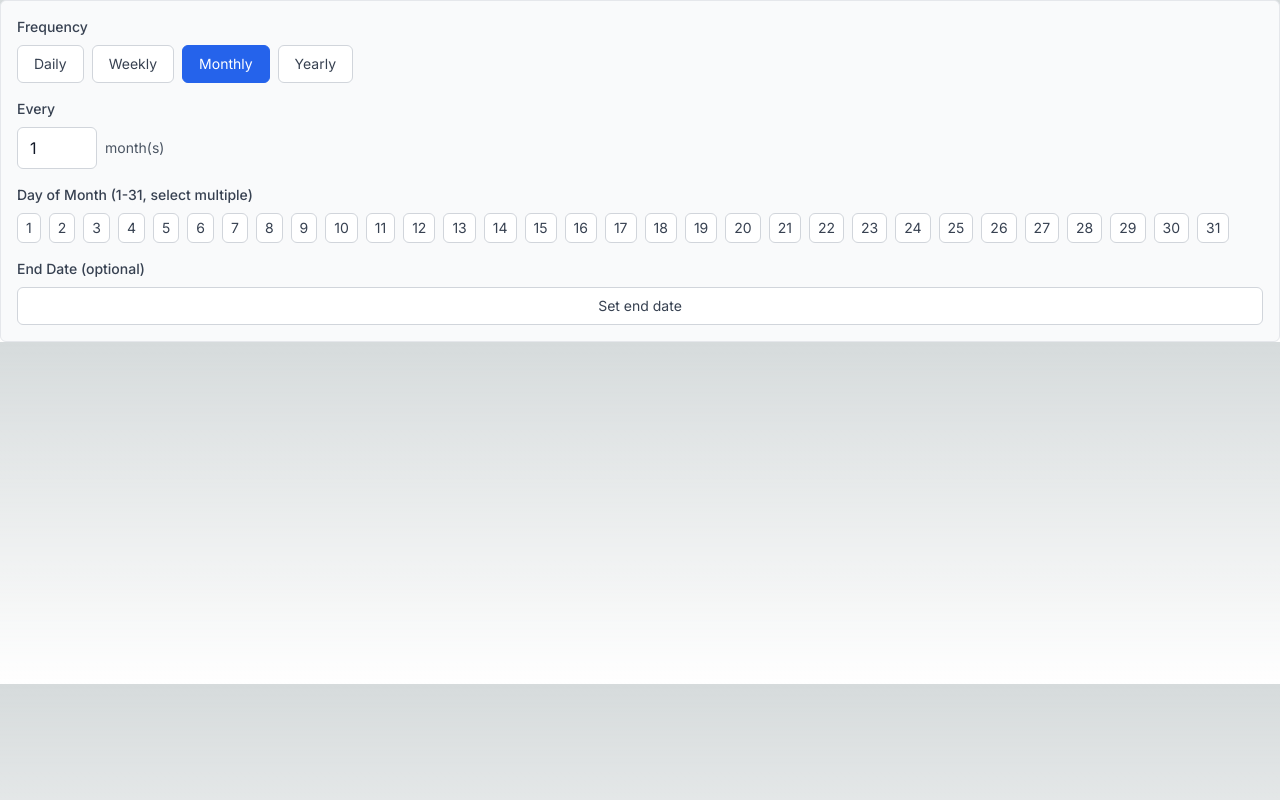
Test: RecurrenceControl Component › should show day of week buttons for weekly frequency
Click the button "weekly". click: (133, 64)
box: x1=92 y1=45 x2=174 y2=83
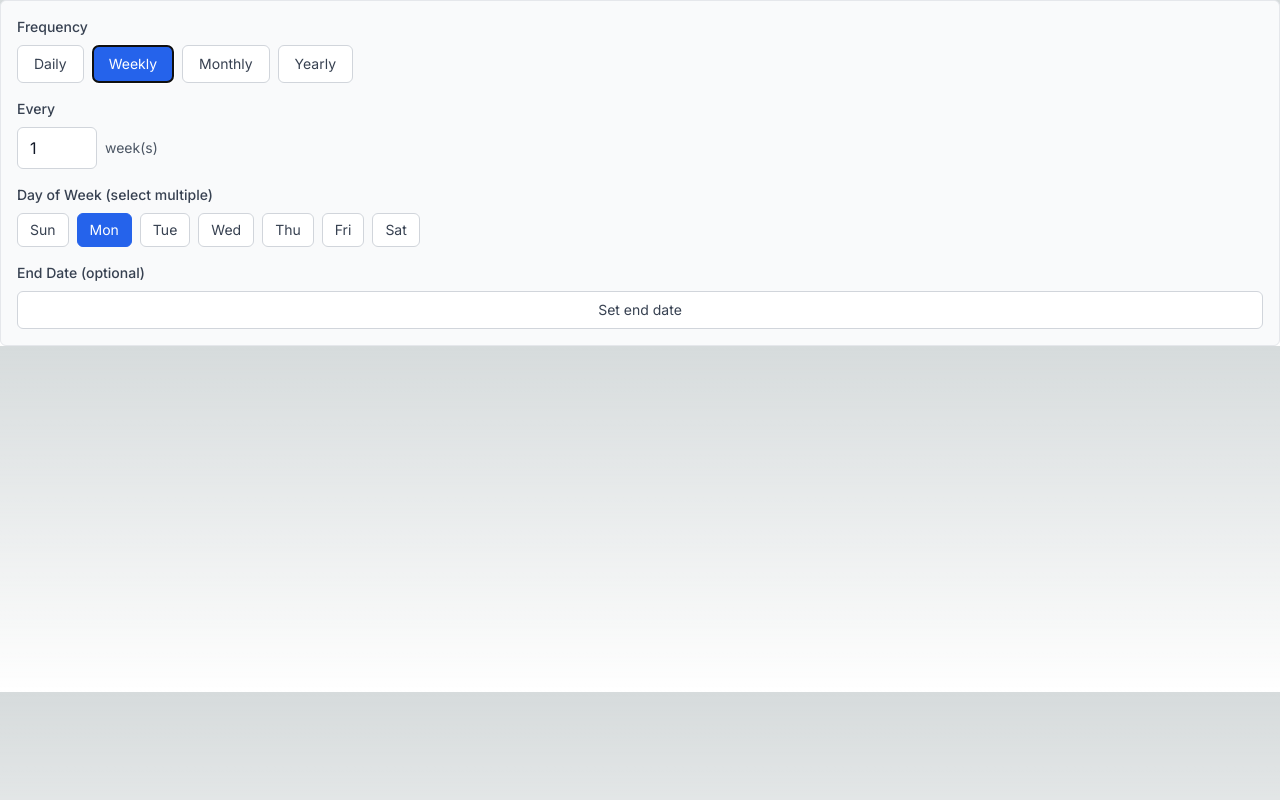
Expected: the button "Mon" is shown, x1=76 y1=213 x2=132 y2=247
Expected: the button "Tue" is shown, x1=140 y1=213 x2=190 y2=247
Expected: the button "Wed" is shown, x1=198 y1=213 x2=254 y2=247
